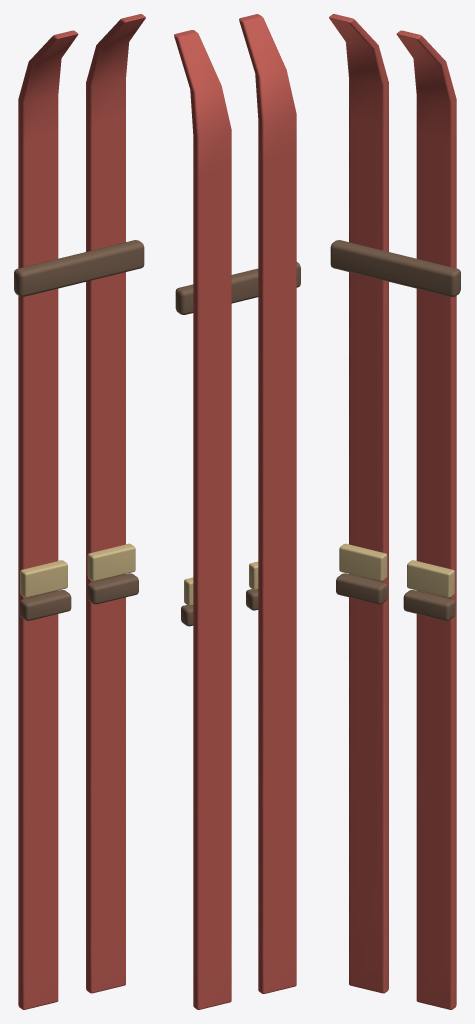
The model's file is lp_skis_pair.glb.
The picture shows the model from 3 angles, left to right: view 1: azimuth 30°, elevation 25°; view 2: azimuth 210°, elevation 25°; view 3: azimuth 330°, elevation 25°; orthographic projection. The views are drawn at different scales.
Visible parts, largest first — view 1: lp_skis_pair; view 2: lp_skis_pair; view 3: lp_skis_pair.
Boxes of the visible parts, bbox=[...] form: lp_skis_pair: bbox=[14, 14, 145, 1009]; lp_skis_pair: bbox=[174, 14, 300, 1009]; lp_skis_pair: bbox=[329, 14, 460, 1009].
Bounding box in the file's own units: 0.26 × 1.96 × 0.118.
